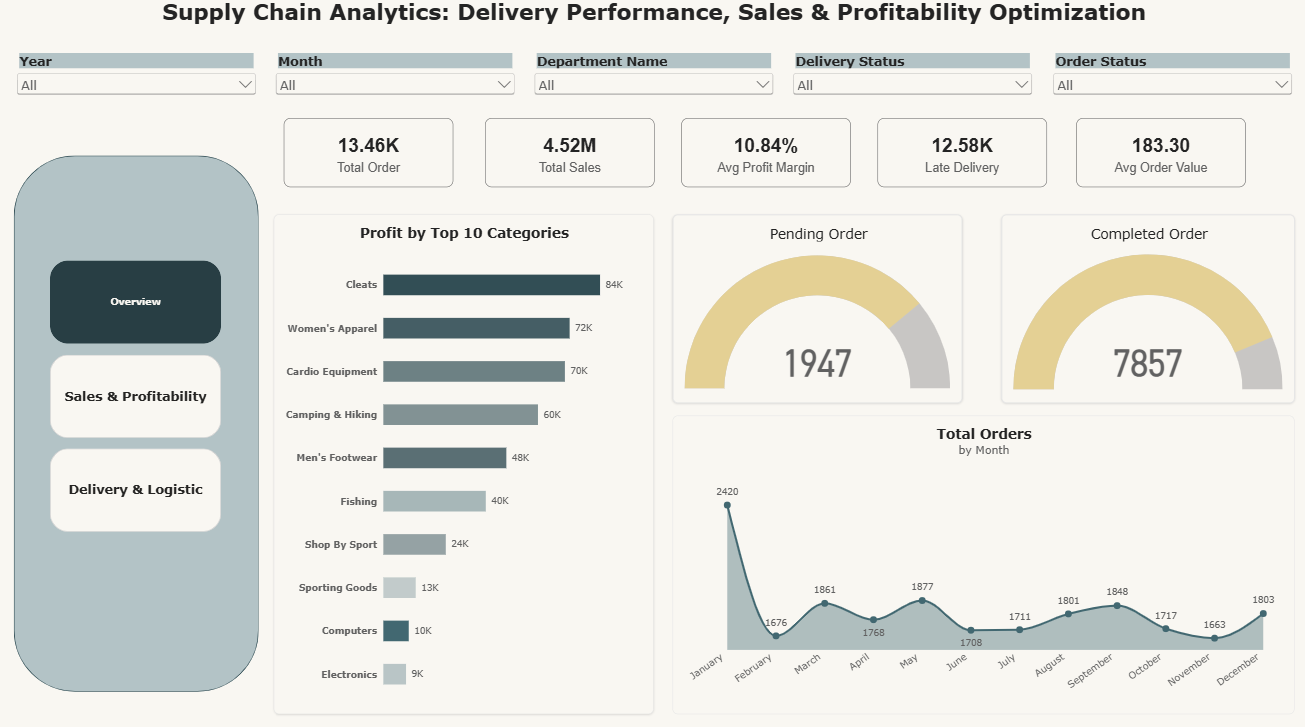

The page's visual inventory and layout, read from the dashboard file:
{"tool":"powerbi","page":{"name":"Overview","canvas":[1920,1080],"ordinal":0},"visuals":[{"type":"textbox","box":[0,0,1920,67.3],"z":0},{"type":"slicer","fields":{"Values":["CleanDataCoSupplyChainDataset.Order Date.Variation.Date Hierarchy.Year"]},"box":[20,80,360,80],"z":1000},{"type":"slicer","fields":{"Values":["CleanDataCoSupplyChainDataset.Order Date.Variation.Date Hierarchy.Month"]},"box":[400,80,360,80],"z":2000},{"type":"slicer","fields":{"Values":["CleanDataCoSupplyChainDataset.Department Name"]},"box":[780,80.7,360,80],"z":3000},{"type":"slicer","fields":{"Values":["CleanDataCoSupplyChainDataset.Delivery Status"]},"box":[1160,80,360,80],"z":4000},{"type":"slicer","fields":{"Values":["CleanDataCoSupplyChainDataset.Order Status"]},"box":[1540,80,360,80],"z":5000},{"type":"card","fields":{"Values":["Sum(CleanDataCoSupplyChainDataset.Sales)"]},"box":[710.9,176.4,249.1,101.8],"z":7000},{"type":"card","fields":{"Values":["Measures Table.Profit_Margin%"]},"box":[1000,176.4,249.1,101.8],"z":8000},{"type":"card","fields":{"Values":["CountNonNull(CleanDataCoSupplyChainDataset.Delivery Performance)"]},"box":[1287.3,176.4,249.1,101.8],"z":9000},{"type":"gauge","fields":{"Y":["CountNonNull(CleanDataCoSupplyChainDataset.Order Status)"]},"box":[987,316.7,425.9,277.8],"z":10000},{"type":"gauge","fields":{"Y":["CountNonNull(CleanDataCoSupplyChainDataset.Order Status)"]},"box":[1468.5,316.7,431.5,277.8],"z":11000},{"type":"clusteredBarChart","title":"Profit by Top 10 Categories","fields":{"Category":["CleanDataCoSupplyChainDataset.Category Name"],"Y":["Sum(CleanDataCoSupplyChainDataset.Order Profit Per Order)"]},"box":[401.7,317.3,557.6,733.7],"z":12000},{"type":"lineChart","fields":{"Y":["CountNonNull(CleanDataCoSupplyChainDataset.Order Id)"],"Category":["CleanDataCoSupplyChainDataset.Order Date.Variation.Date Hierarchy.Month"]},"box":[987.3,612.7,912.7,438.2],"z":13000},{"type":"card","fields":{"Values":["Measures Table.Avg Order Value"]},"box":[1580,176.4,249.1,101.8],"z":14000},{"type":"card","fields":{"Values":["Count(CleanDataCoSupplyChainDataset.Order Id)"]},"box":[416.4,176.4,249.1,101.8],"z":15000},{"type":"shape","box":[20.2,231.1,359.5,786.9],"z":15001},{"type":"pageNavigator","box":[73.4,385.2,251.3,398],"z":15002}]}

Visuals, with their boxes in screenshot pixels (x1, y1, x2, y2), scaled from the page's 1920x1080 canvas onto the 1305x727 screenshot:
textbox: {"x1": 0, "y1": 0, "x2": 1304, "y2": 45}
slicer - CleanDataCoSupplyChainDataset.Order Date.Variation.Date Hierarchy.Year: {"x1": 14, "y1": 54, "x2": 258, "y2": 108}
slicer - CleanDataCoSupplyChainDataset.Order Date.Variation.Date Hierarchy.Month: {"x1": 272, "y1": 54, "x2": 517, "y2": 108}
slicer - CleanDataCoSupplyChainDataset.Department Name: {"x1": 530, "y1": 54, "x2": 775, "y2": 108}
slicer - CleanDataCoSupplyChainDataset.Delivery Status: {"x1": 788, "y1": 54, "x2": 1033, "y2": 108}
slicer - CleanDataCoSupplyChainDataset.Order Status: {"x1": 1047, "y1": 54, "x2": 1291, "y2": 108}
card - Sum(CleanDataCoSupplyChainDataset.Sales): {"x1": 483, "y1": 119, "x2": 652, "y2": 187}
card - Measures Table.Profit_Margin%: {"x1": 680, "y1": 119, "x2": 849, "y2": 187}
card - CountNonNull(CleanDataCoSupplyChainDataset.Delivery Performance): {"x1": 875, "y1": 119, "x2": 1044, "y2": 187}
gauge - CountNonNull(CleanDataCoSupplyChainDataset.Order Status): {"x1": 671, "y1": 213, "x2": 960, "y2": 400}
gauge - CountNonNull(CleanDataCoSupplyChainDataset.Order Status): {"x1": 998, "y1": 213, "x2": 1291, "y2": 400}
"Profit by Top 10 Categories" clusteredBarChart: {"x1": 273, "y1": 214, "x2": 652, "y2": 707}
lineChart - CountNonNull(CleanDataCoSupplyChainDataset.Order Id) x CleanDataCoSupplyChainDataset.Order Date.Variation.Date Hierarchy.Month: {"x1": 671, "y1": 412, "x2": 1291, "y2": 707}
card - Measures Table.Avg Order Value: {"x1": 1074, "y1": 119, "x2": 1243, "y2": 187}
card - Count(CleanDataCoSupplyChainDataset.Order Id): {"x1": 283, "y1": 119, "x2": 452, "y2": 187}
shape: {"x1": 14, "y1": 156, "x2": 258, "y2": 685}
pageNavigator: {"x1": 50, "y1": 259, "x2": 221, "y2": 527}
